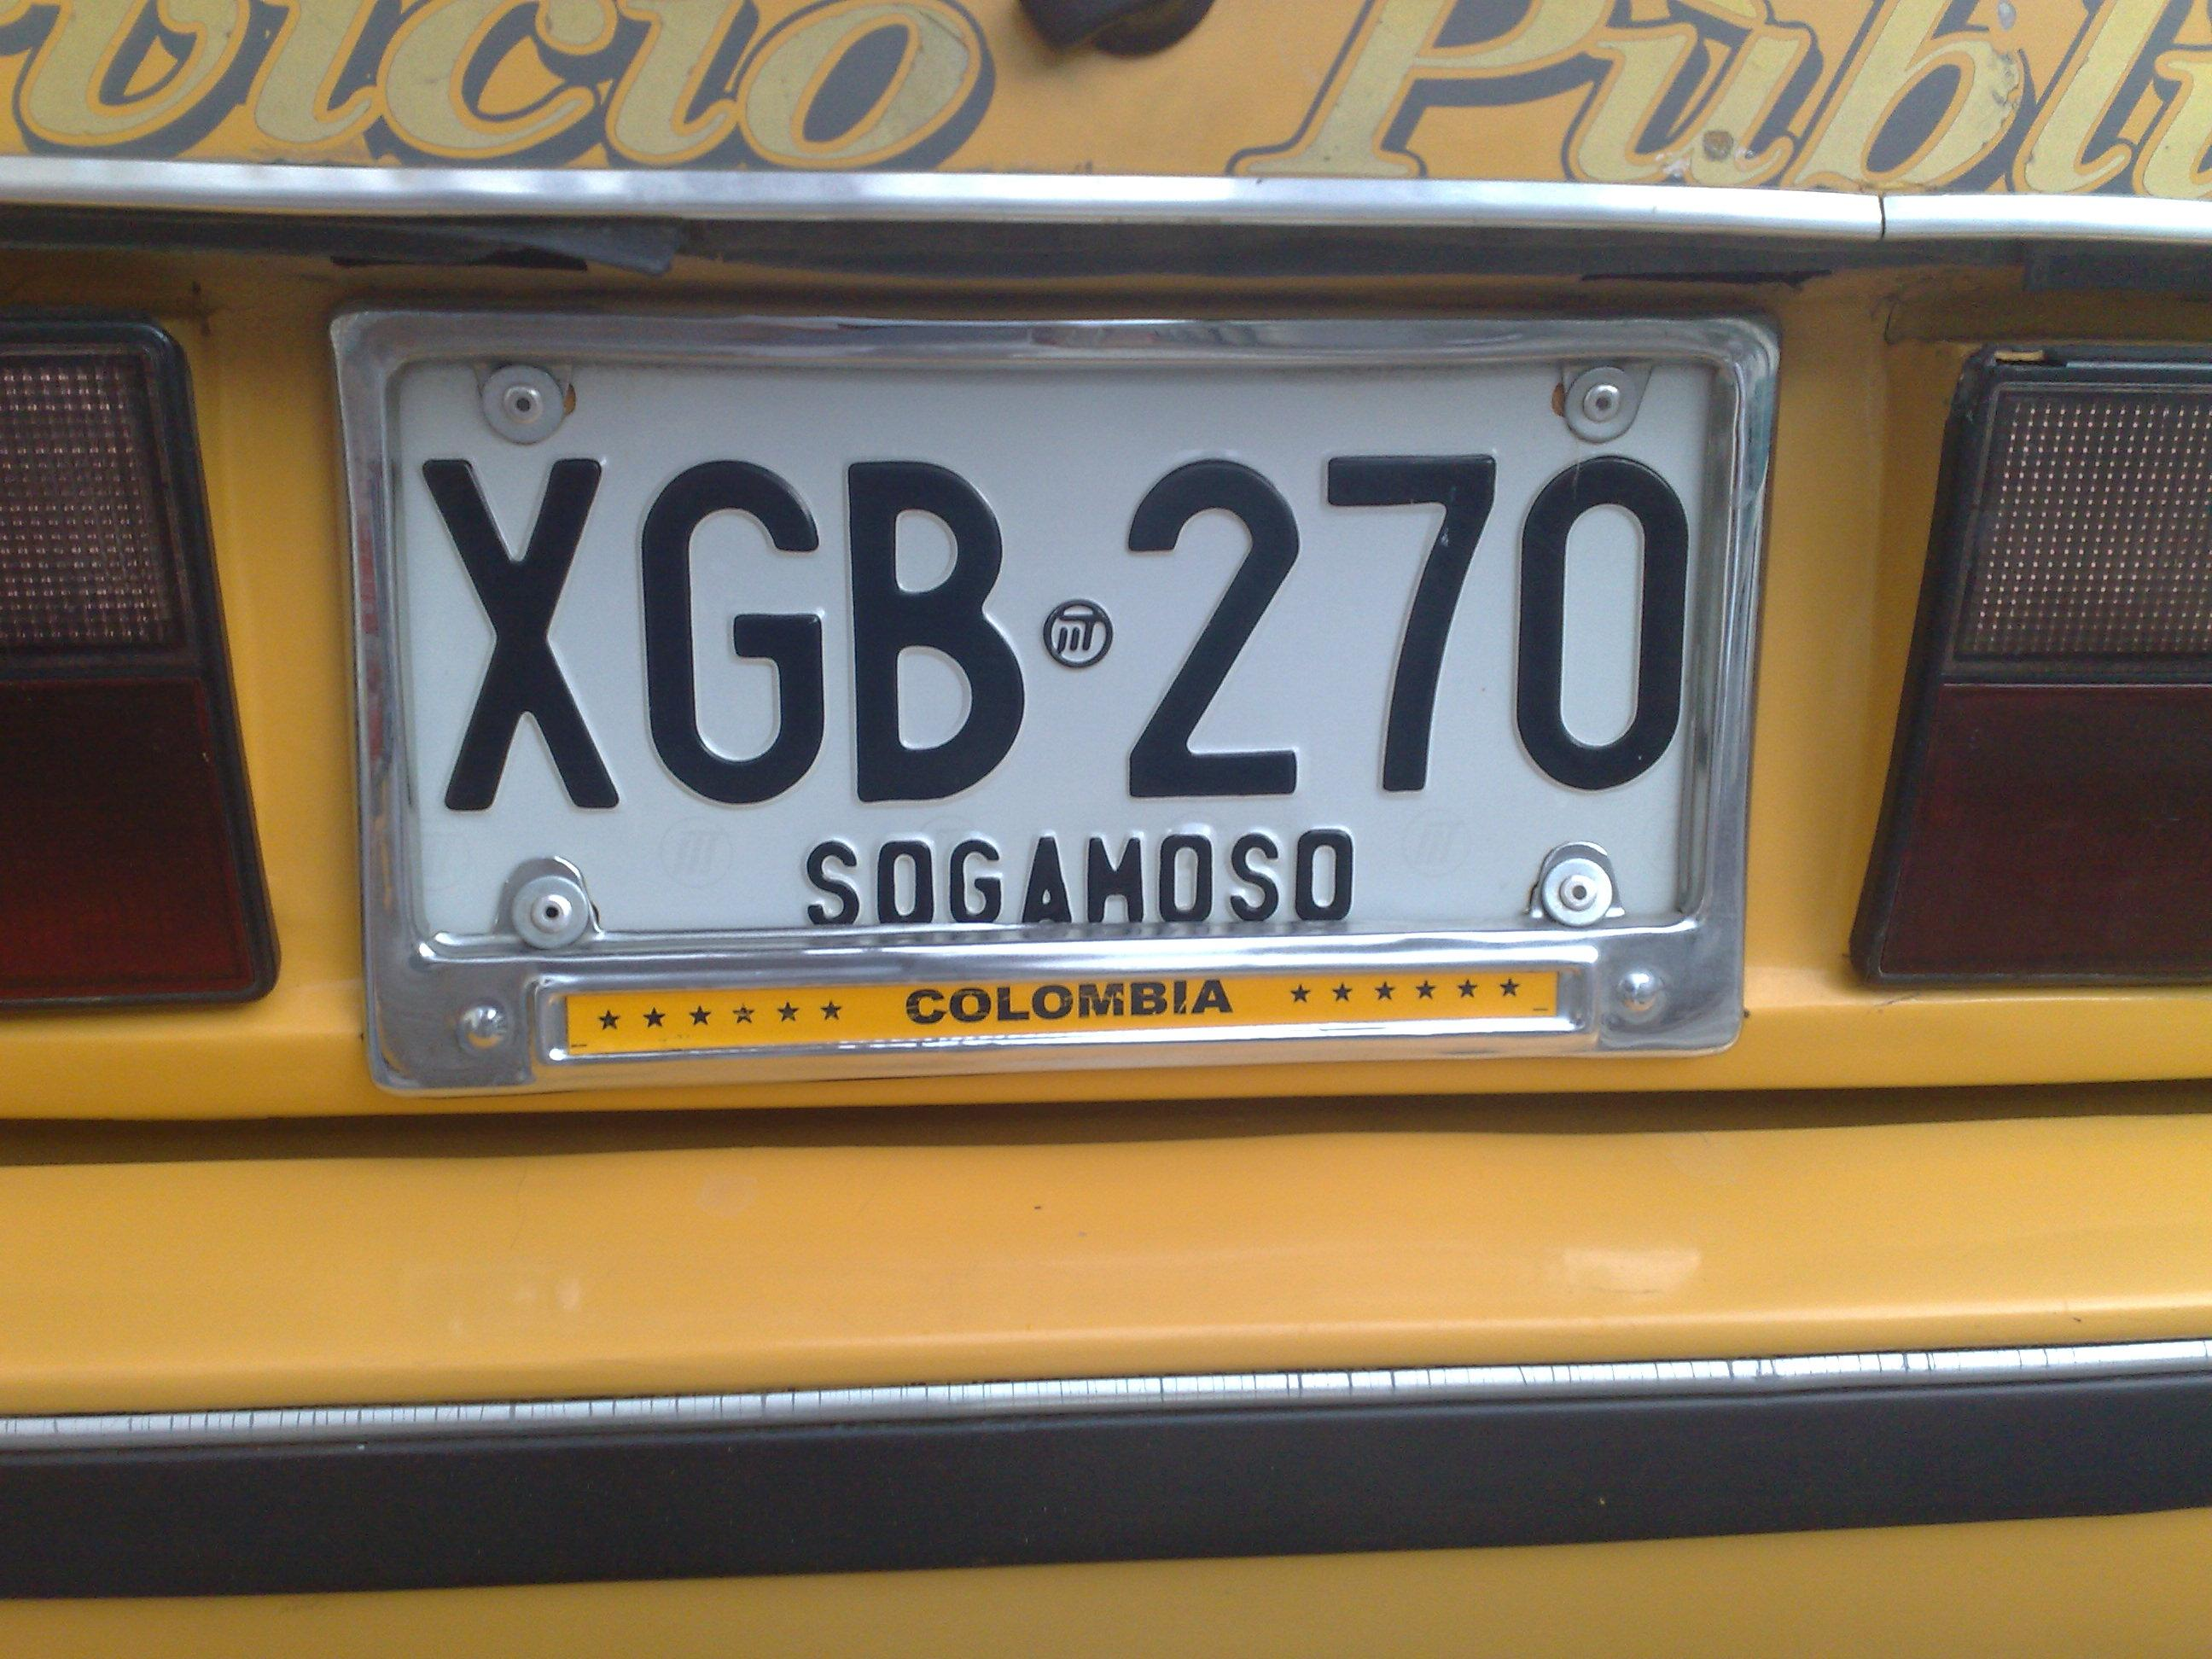placas: (371, 329, 1732, 943)
